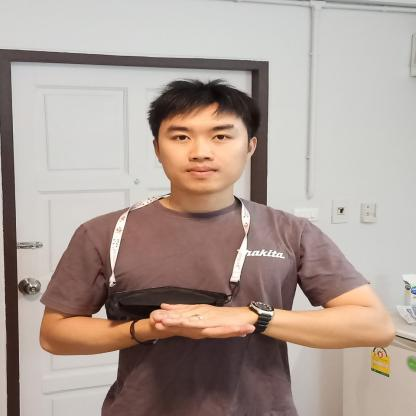Love: (98, 284, 318, 370)
